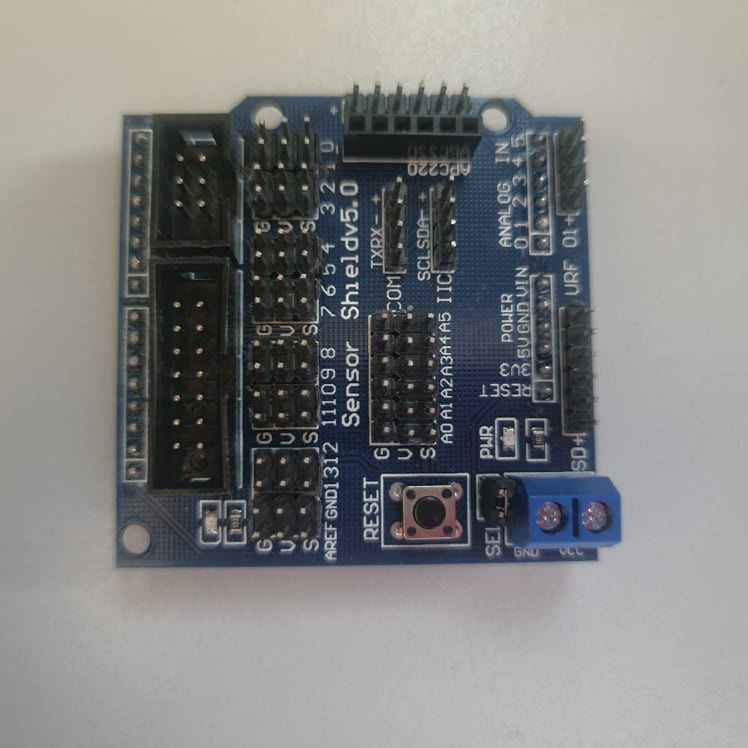5V EXPANSION: (116, 85, 624, 566)
